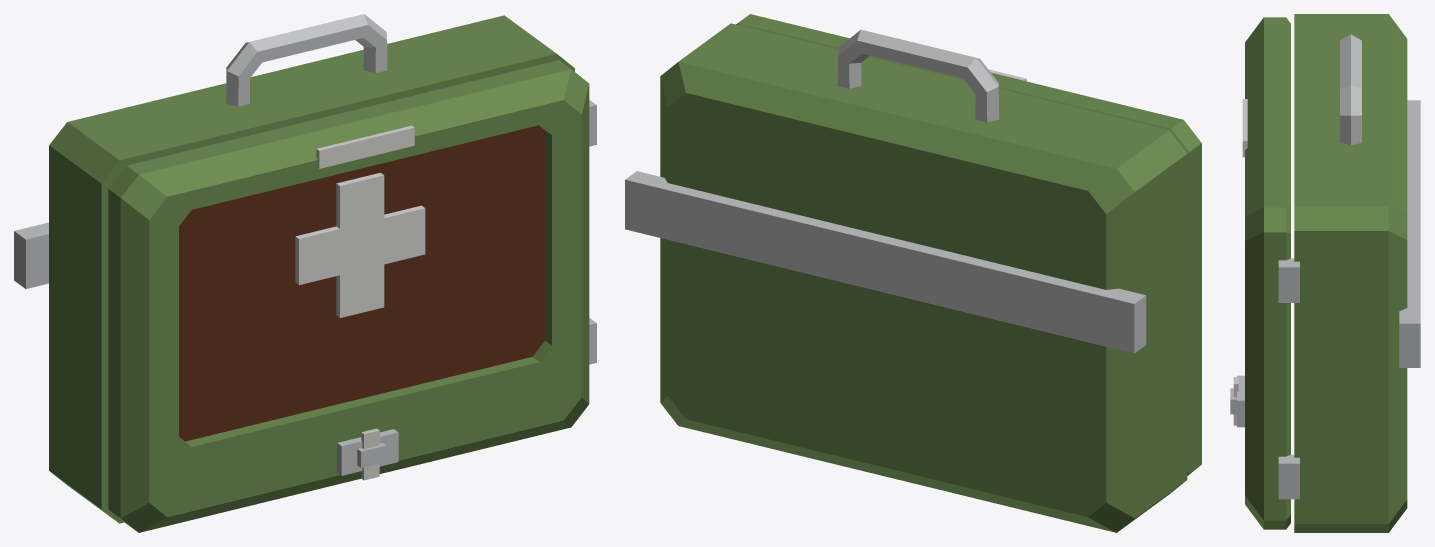
File: wall-first-aid-box-7ffc6c.glb
3 renders of one model, left to right at view 1: azimuth 30°, elevation 25°; view 2: azimuth 150°, elevation 25°; view 3: azimuth 270°, elevation 25°, orthographic. The views are drawn at different scales.
Parts seen in each view (by area): view 1: lid, wall-first-aid-box; view 2: wall-first-aid-box, lid; view 3: wall-first-aid-box, lid.
Boxes of the visible parts, x1=… form: lid: x1=108, y1=60, x2=589, y2=532; wall-first-aid-box: x1=14, y1=14, x2=596, y2=523; wall-first-aid-box: x1=625, y1=23, x2=1187, y2=532; lid: x1=736, y1=14, x2=1201, y2=475; wall-first-aid-box: x1=1278, y1=14, x2=1420, y2=532; lid: x1=1230, y1=17, x2=1290, y2=529.
Bounding box in the file's own units: 0.322 × 0.2539 × 0.116.
